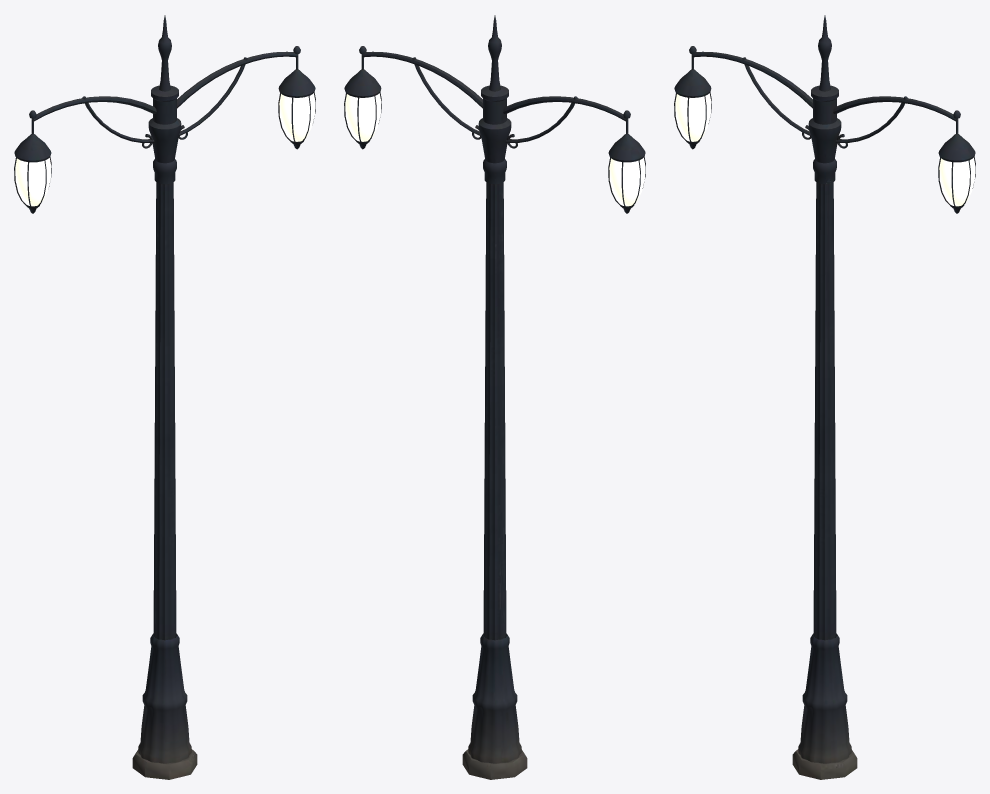
File: lampHistoric-v2.glb
The picture shows the model from 3 angles, left to right: view 1: azimuth 30°, elevation 25°; view 2: azimuth 150°, elevation 25°; view 3: azimuth 330°, elevation 25°; orthographic projection.
Parts seen in each view (by area): view 1: lampHistoric; view 2: lampHistoric; view 3: lampHistoric.
Boxes of the visible parts, <box> form: lampHistoric: <box>14,15,315,779</box>; lampHistoric: <box>344,15,645,779</box>; lampHistoric: <box>674,15,975,779</box>.
Bounding box in the file's own units: 3.15 × 7.62 × 0.5543.
Materials: 2 (2 with a texture image).
